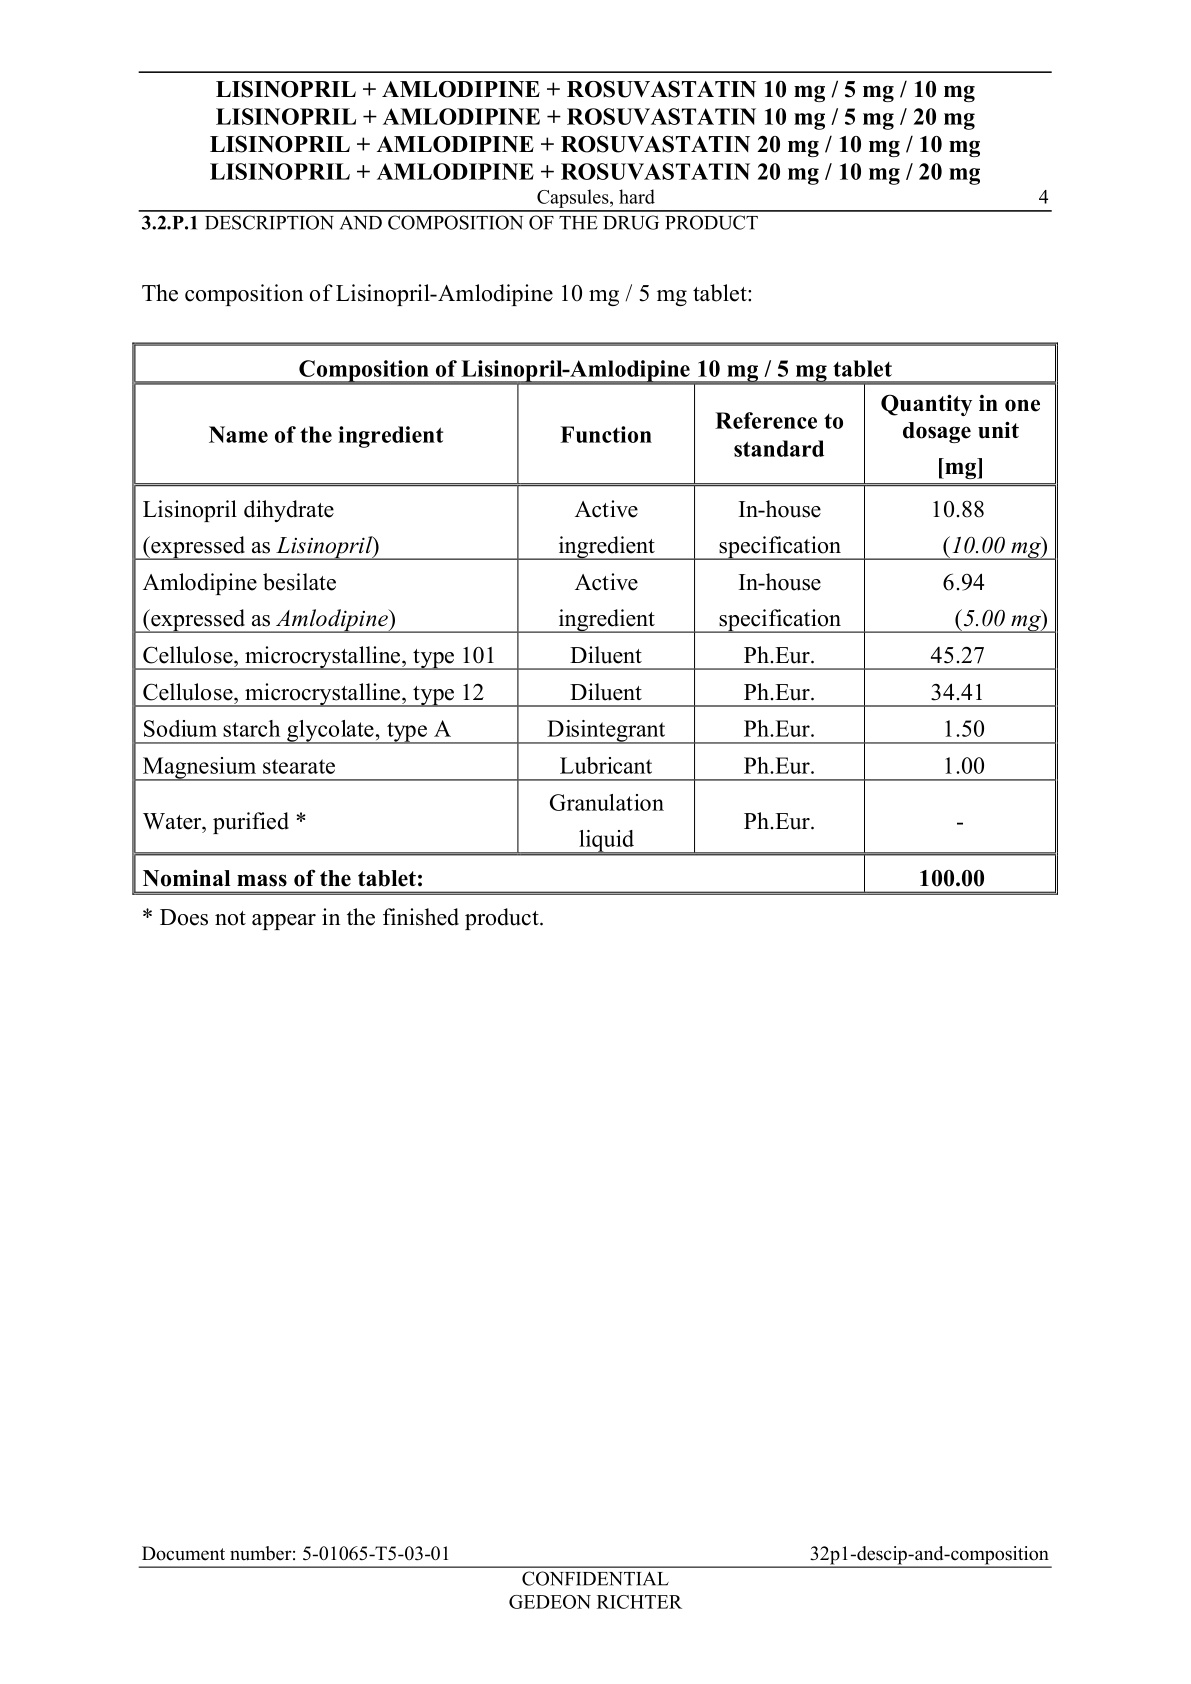merged_cells: (131, 341, 1058, 895)
